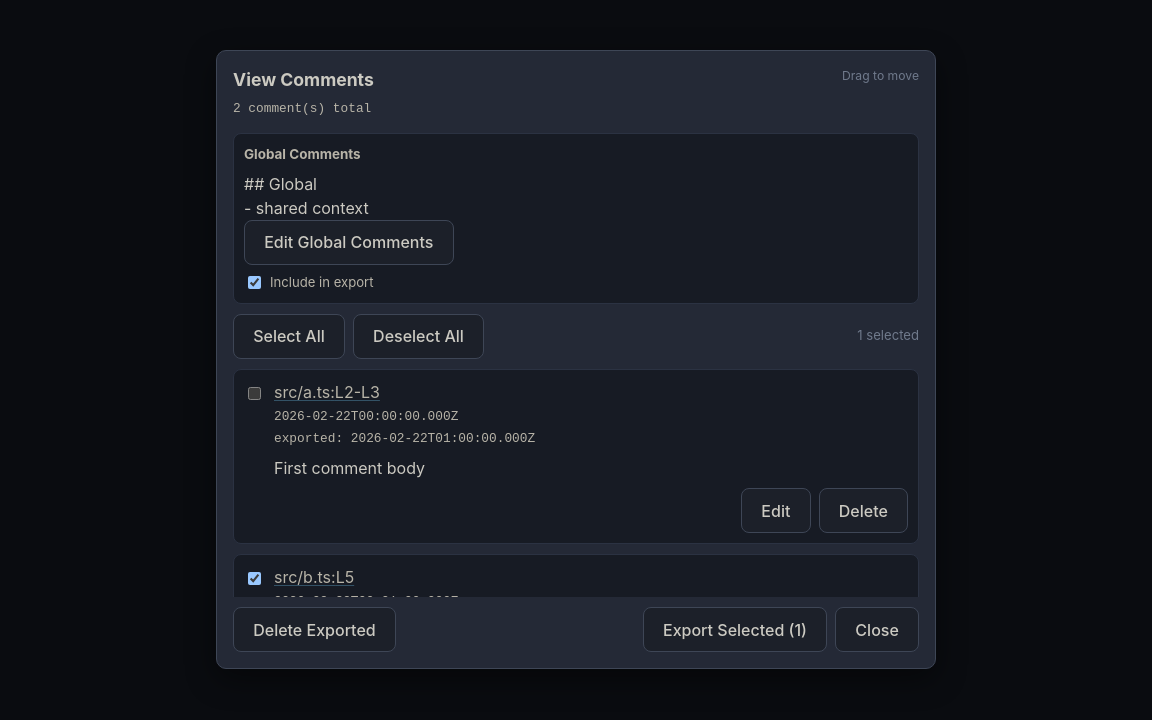
Test: CommentListModal › supports clearing global comments from view modal
What coordinates should you click on to do the following:
click the button "Edit Global Comments"
I would click on:
 (349, 243)
Its box is [244,220,454,265].
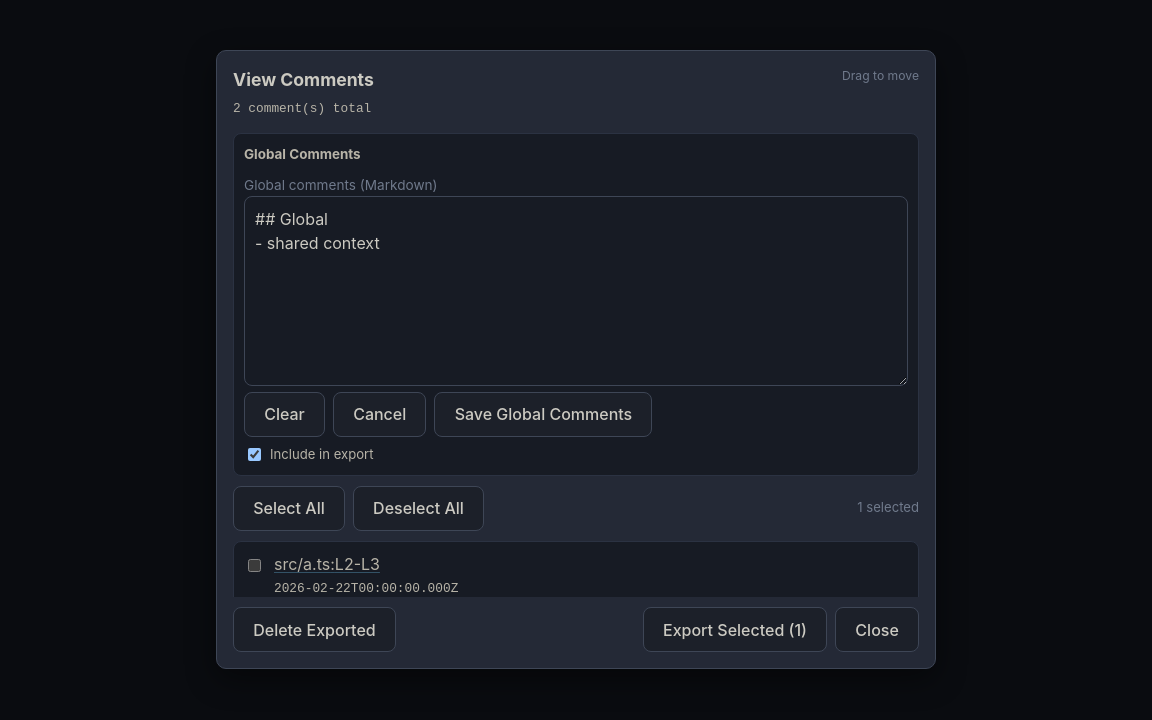
What coordinates should you click on to do the following:
click the button "Clear"
I would click on:
 (284, 415)
Its box is [244,392,325,437].
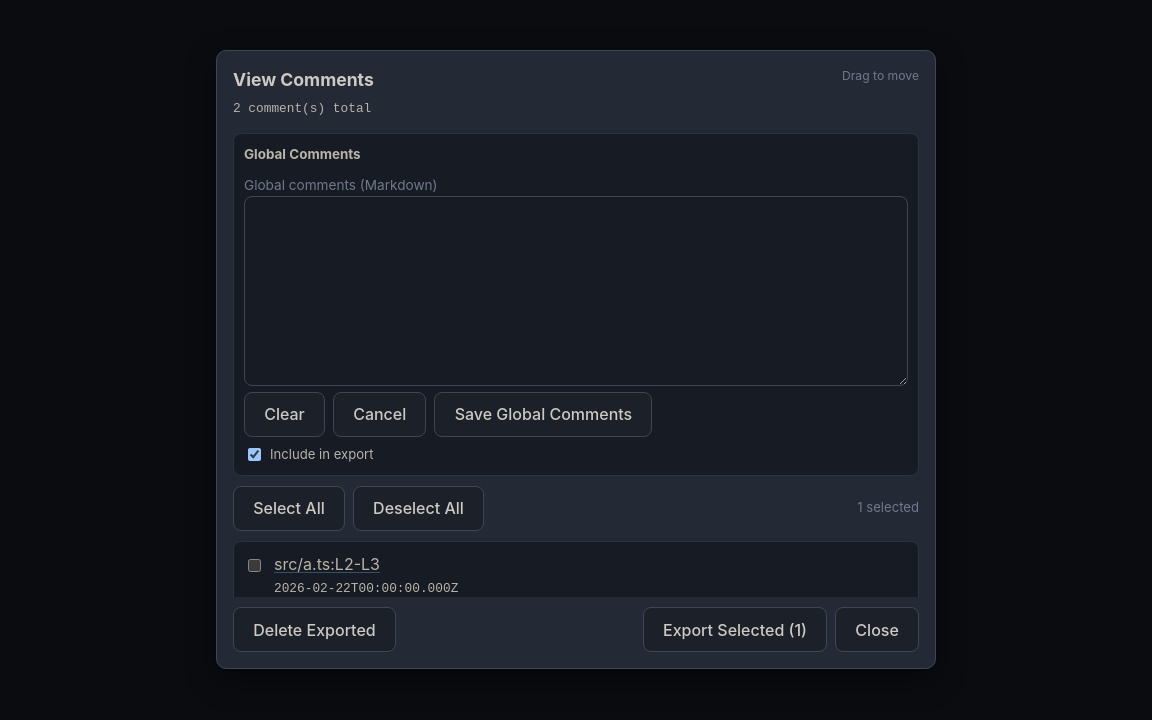
What coordinates should you click on to do the following:
click the button with test id "save-global-comments-button"
I would click on:
 (544, 415)
Its box is [434,392,652,437].
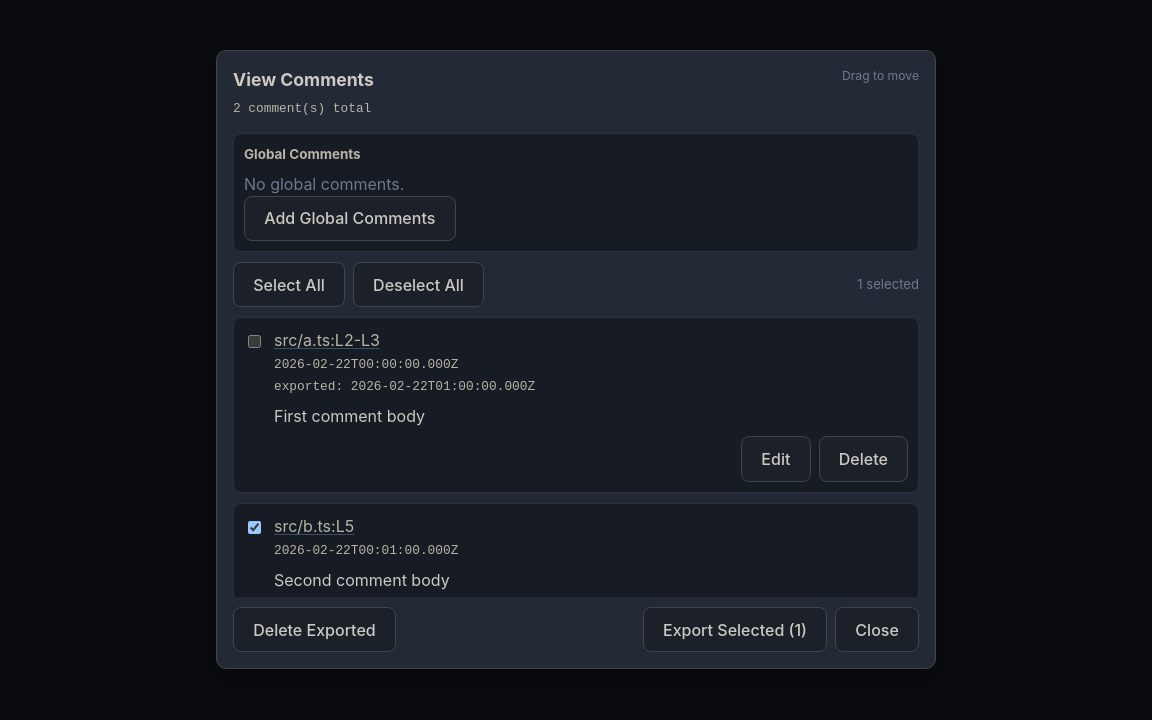
expect the text with test id "comment-list-global-empty" reads "No global comments.": met, box [244,174,404,194]
expect the checkbox with test id "include-global-comments-checkbox" is gone: met
